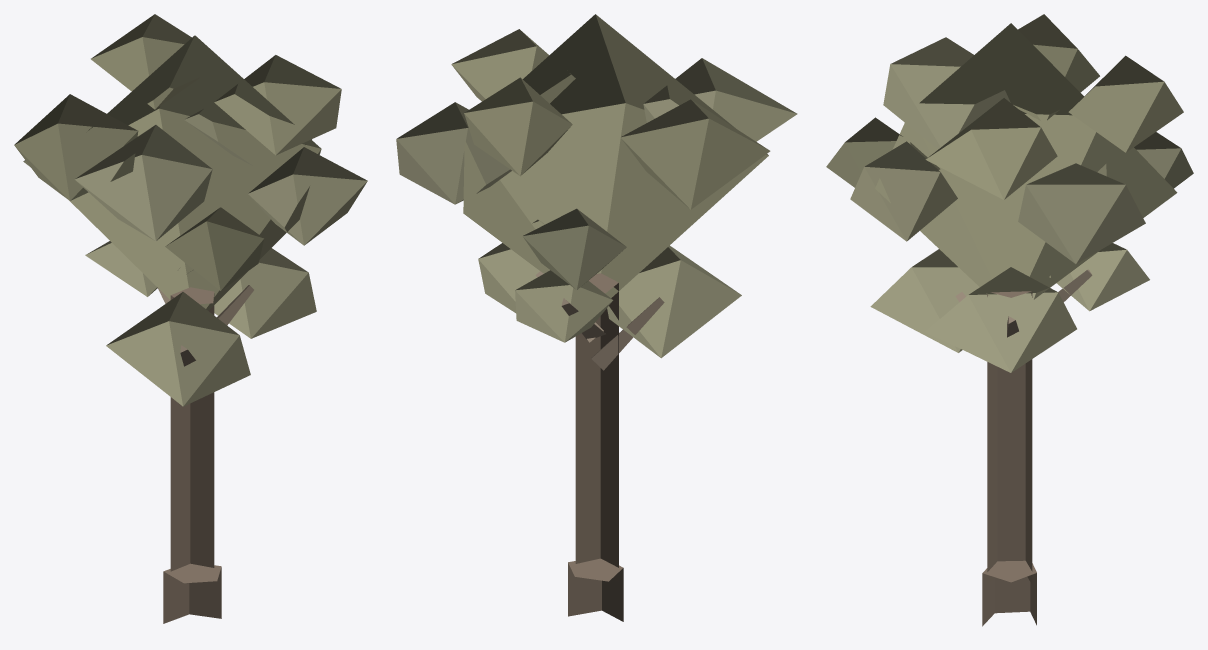
The model's file is tree.temp.ginkgo__winter.glb.
The picture shows the model from 3 angles, left to right: view 1: azimuth 30°, elevation 25°; view 2: azimuth 150°, elevation 25°; view 3: azimuth 270°, elevation 25°; orthographic projection. The views are drawn at different scales.
Visible parts, largest first — view 1: tree.temp.ginkgo__winter; view 2: tree.temp.ginkgo__winter; view 3: tree.temp.ginkgo__winter.
Boxes of the visible parts, <box> form: tree.temp.ginkgo__winter: <box>14,14,367,623</box>; tree.temp.ginkgo__winter: <box>396,14,797,621</box>; tree.temp.ginkgo__winter: <box>826,14,1193,626</box>.
Bounding box in the file's own units: 8.25 × 14.35 × 7.97.
